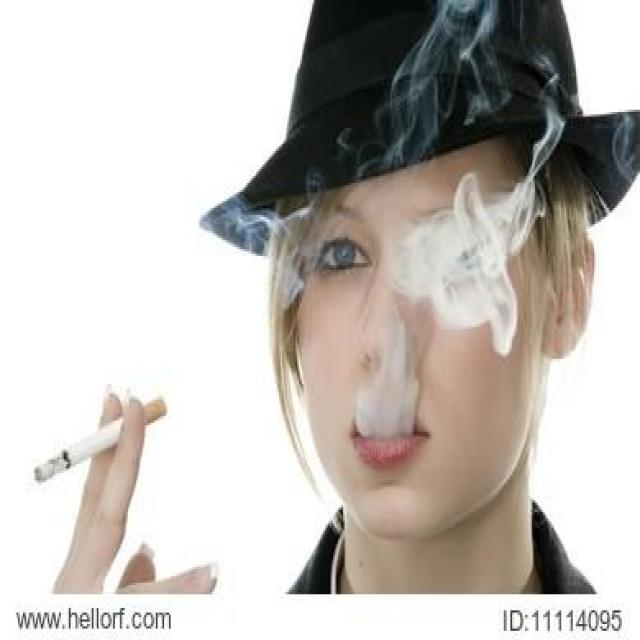Дым: (353, 182, 538, 444)
Сигарета: (32, 392, 168, 483)
Тело: (51, 0, 637, 599)
